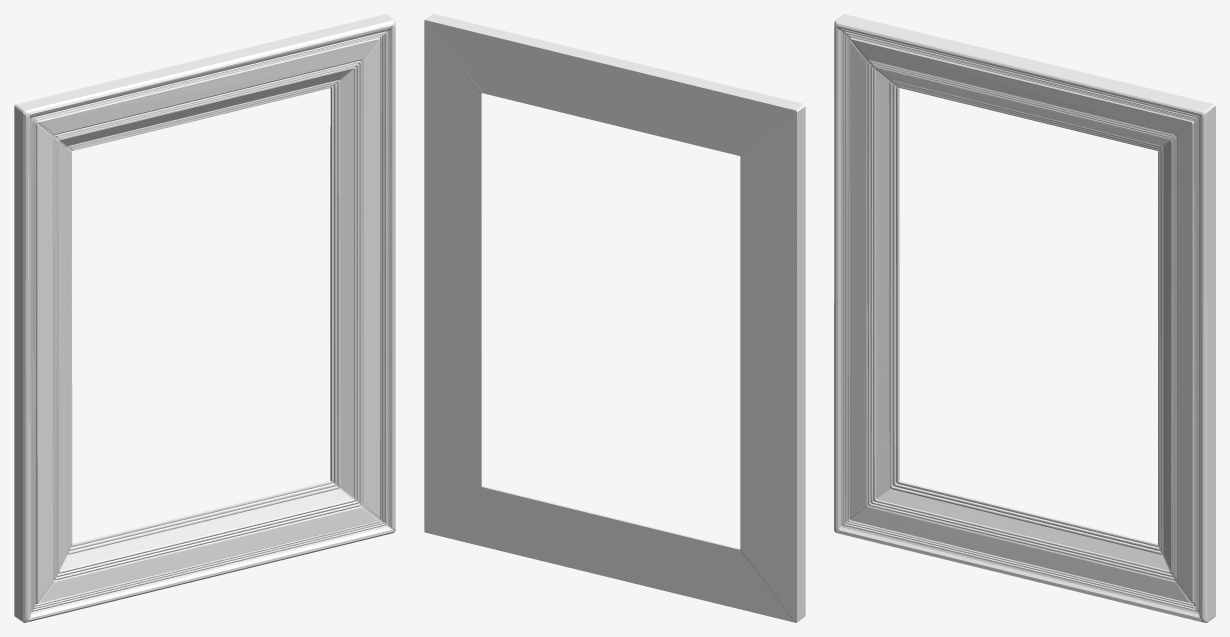
File: photoframe.gltf
The picture shows the model from 3 angles, left to right: view 1: azimuth 30°, elevation 25°; view 2: azimuth 150°, elevation 25°; view 3: azimuth 330°, elevation 25°; orthographic projection.
Size of the model in its own units: 0.0822 by 0.108 by 0.00405.
1 material, 1 textured.
